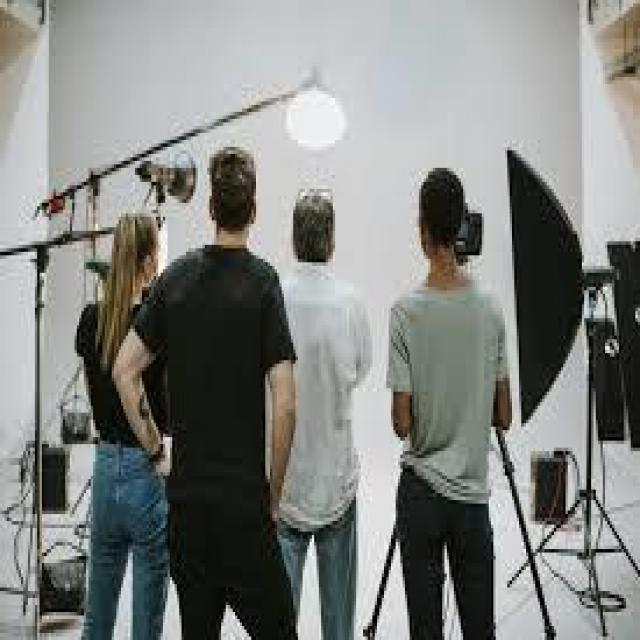person: (135, 136, 321, 636), (377, 140, 526, 636), (270, 172, 391, 636), (74, 189, 198, 636)
